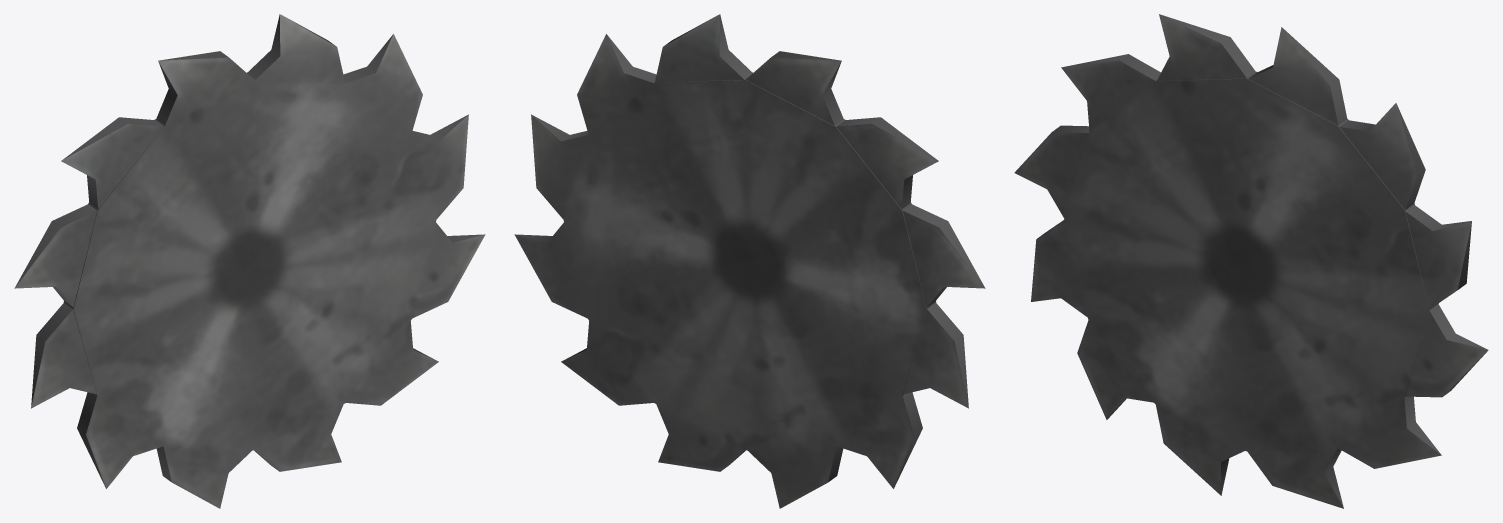
File: Woodmill_Saw.FBX
3 renders of one model, left to right at view 1: azimuth 30°, elevation 25°; view 2: azimuth 150°, elevation 25°; view 3: azimuth 330°, elevation 25°, orthographic.
Parts seen in each view (by area): view 1: Woodmill_Saw; view 2: Woodmill_Saw; view 3: Woodmill_Saw.
Part boxes in pixels (x1,y1,x2,y2): Woodmill_Saw: (14, 14, 485, 508); Woodmill_Saw: (514, 14, 985, 508); Woodmill_Saw: (1014, 14, 1488, 508).
Size of what is drawn, in the model's own units: 287 by 10.25 by 279.
